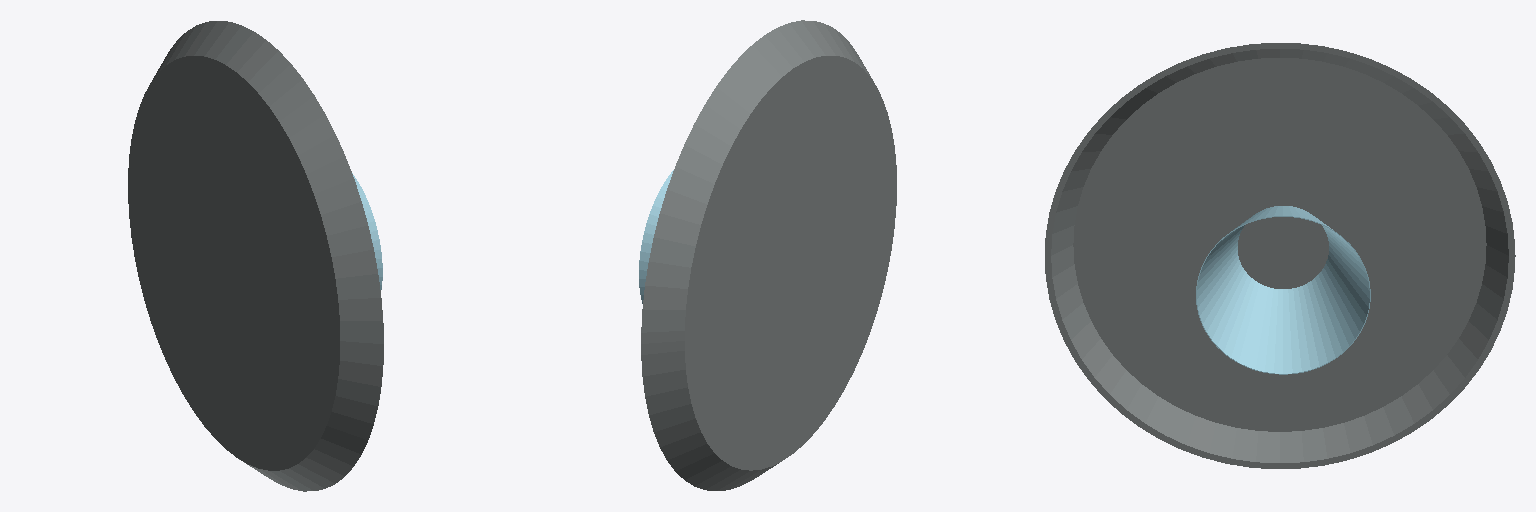
URDF robot description (gen3_robotiq_2f_85):
<?xml version="1.0" ?>
<!-- =================================================================================== -->
<!-- |    This document was autogenerated by xacro from gen3_robotiq_2f_85.xacro       | -->
<!-- |    EDITING THIS FILE BY HAND IS NOT RECOMMENDED                                 | -->
<!-- =================================================================================== -->
<robot name="gen3_robotiq_2f_85">
  <!-- Run the macros -->
  <link name="base">
    <inertial>
      <origin rpy="0 0 0" xyz="-0.000648 -0.000166 0.084487"/>
      <mass value="1.697"/>
      <inertia ixx="0.004622" ixy="9E-06" ixz="6E-05" iyy="0.004495" iyz="9E-06" izz="0.002079"/>
    </inertial>
    <visual>
      <origin rpy="0 0 0" xyz="0 0 0"/>
      <geometry>
        <mesh filename="meshes/base_link.obj"/>
      </geometry>
      <material name="">
        <color rgba="0.8275 0.8275 0.8275 0"/>
      </material>
    </visual>
    <collision>
      <origin rpy="0 0 0" xyz="0 0 0"/>
      <geometry>
        <mesh filename="meshes/base_link.obj"/>
      </geometry>
    </collision>
  </link>

  <link name="shoulder_link">
    <inertial>
      <origin rpy="0 0 0" xyz="-2.3E-05 -0.010364 -0.07336"/>
      <mass value="1.3773"/>
      <inertia ixx="0.00457" ixy="1E-06" ixz="2E-06" iyy="0.004831" iyz="0.000448" izz="0.001409"/>
    </inertial>
    <visual>
      <origin rpy="0 0 0" xyz="0 0 0"/>
      <geometry>
        <mesh filename="meshes/shoulder_link.obj"/>
      </geometry>
      <material name="">
        <color rgba="0.8275 0.8275 0.8275 0"/>
      </material>
    </visual>
    <collision>
      <origin rpy="0 0 0" xyz="0 0 0"/>
      <geometry>
        <mesh filename="meshes/shoulder_link.obj"/>
      </geometry>
    </collision>
  </link>

  <joint name="joint_1" type="continuous">
    <origin rpy="3.1416 2.7629E-18 -4.9305E-36" xyz="0 0 0.15643"/>
    <parent link="base"/>
    <child link="shoulder_link"/>
    <axis xyz="0 0 1"/>
    <limit effort="39" velocity="1.3963"/>
  </joint>

  <link name="half_arm_1_link">
    <inertial>
      <origin rpy="0 0 0" xyz="-4.4E-05 -0.09958 -0.013278"/>
      <mass value="1.1636"/>
      <inertia ixx="0.011088" ixy="5E-06" ixz="0" iyy="0.001072" iyz="-0.000691" izz="0.011255"/>
    </inertial>
    <visual>
      <origin rpy="0 0 0" xyz="0 0 0"/>
      <geometry>
        <mesh filename="meshes/half_arm_1_link.obj"/>
      </geometry>
      <material name="">
        <color rgba="0.8275 0.8275 0.8275 0"/>
      </material>
    </visual>
    <collision>
      <origin rpy="0 0 0" xyz="0 0 0"/>
      <geometry>
        <mesh filename="meshes/half_arm_1_link.obj"/>
      </geometry>
    </collision>
  </link>

  <joint name="joint_2" type="revolute">
    <origin rpy="1.5708 2.1343E-17 -1.1102E-16" xyz="0 0.005375 -0.12838"/>
    <parent link="shoulder_link"/>
    <child link="half_arm_1_link"/>
    <axis xyz="0 0 1"/>
    <limit effort="39" lower="-2.41" upper="2.41" velocity="1.3963"/>
  </joint>

  <link name="half_arm_2_link">
    <inertial>
      <origin rpy="0 0 0" xyz="-4.4E-05 -0.006641 -0.117892"/>
      <mass value="1.1636"/>
      <inertia ixx="0.010932" ixy="0" ixz="-7E-06" iyy="0.011127" iyz="0.000606" izz="0.001043"/>
    </inertial>
    <visual>
      <origin rpy="0 0 0" xyz="0 0 0"/>
      <geometry>
        <mesh filename="meshes/half_arm_2_link.obj"/>
      </geometry>
      <material name="">
        <color rgba="0.8275 0.8275 0.8275 0"/>
      </material>
    </visual>
    <collision>
      <origin rpy="0 0 0" xyz="0 0 0"/>
      <geometry>
        <mesh filename="meshes/half_arm_2_link.obj"/>
      </geometry>
    </collision>
  </link>

  <joint name="joint_3" type="continuous">
    <origin rpy="-1.5708 1.2326E-32 -2.9122E-16" xyz="0 -0.21038 -0.006375"/>
    <parent link="half_arm_1_link"/>
    <child link="half_arm_2_link"/>
    <axis xyz="0 0 1"/>
    <limit effort="39" velocity="1.3963"/>
  </joint>

  <link name="forearm_link">
    <inertial>
      <origin rpy="0 0 0" xyz="-1.8E-05 -0.075478 -0.015006"/>
      <mass value="0.9302"/>
      <inertia ixx="0.008147" ixy="-1E-06" ixz="0" iyy="0.000631" iyz="-0.0005" izz="0.008316"/>
    </inertial>
    <visual>
      <origin rpy="0 0 0" xyz="0 0 0"/>
      <geometry>
        <mesh filename="meshes/forearm_link.obj"/>
      </geometry>
      <material name="">
        <color rgba="0.8275 0.8275 0.8275 0"/>
      </material>
    </visual>
    <collision>
      <origin rpy="0 0 0" xyz="0 0 0"/>
      <geometry>
        <mesh filename="meshes/forearm_link.obj"/>
      </geometry>
    </collision>
  </link>

  <joint name="joint_4" type="revolute">
    <origin rpy="1.5708 -6.6954E-17 -1.6653E-16" xyz="0 0.006375 -0.21038"/>
    <parent link="half_arm_2_link"/>
    <child link="forearm_link"/>
    <axis xyz="0 0 1"/>
    <limit effort="39" lower="-2.66" upper="2.66" velocity="1.3963"/>
  </joint>

  <link name="spherical_wrist_1_link">
    <inertial>
      <origin rpy="0 0 0" xyz="1E-06 -0.009432 -0.063883"/>
      <mass value="0.6781"/>
      <inertia ixx="0.001596" ixy="0" ixz="0" iyy="0.001607" iyz="0.000256" izz="0.000399"/>
    </inertial>
    <visual>
      <origin rpy="0 0 0" xyz="0 0 0"/>
      <geometry>
        <mesh filename="meshes/spherical_wrist_1_link.obj"/>
      </geometry>
      <material name="">
        <color rgba="0.8275 0.8275 0.8275 0"/>
      </material>
    </visual>
    <collision>
      <origin rpy="0 0 0" xyz="0 0 0"/>
      <geometry>
        <mesh filename="meshes/spherical_wrist_1_link.obj"/>
      </geometry>
    </collision>
  </link>

  <joint name="joint_5" type="continuous">
    <origin rpy="-1.5708 2.2204E-16 -6.373E-17" xyz="0 -0.20843 -0.006375"/>
    <parent link="forearm_link"/>
    <child link="spherical_wrist_1_link"/>
    <axis xyz="0 0 1"/>
    <limit effort="9" velocity="1.2218"/>
  </joint>

  <link name="spherical_wrist_2_link">
    <inertial>
      <origin rpy="0 0 0" xyz="1E-06 -0.045483 -0.00965"/>
      <mass value="0.6781"/>
      <inertia ixx="0.001641" ixy="0" ixz="0" iyy="0.00041" iyz="-0.000278" izz="0.001641"/>
    </inertial>
    <visual>
      <origin rpy="0 0 0" xyz="0 0 0"/>
      <geometry>
        <mesh filename="meshes/spherical_wrist_2_link.obj"/>
      </geometry>
      <material name="">
        <color rgba="0.8275 0.8275 0.8275 0"/>
      </material>
    </visual>
    <collision>
      <origin rpy="0 0 0" xyz="0 0 0"/>
      <geometry>
        <mesh filename="meshes/spherical_wrist_2_link.obj"/>
      </geometry>
    </collision>
  </link>

  <joint name="joint_6" type="revolute">
    <origin rpy="1.5708 9.2076E-28 -8.2157E-15" xyz="0 0.00017505 -0.10593"/>
    <parent link="spherical_wrist_1_link"/>
    <child link="spherical_wrist_2_link"/>
    <axis xyz="0 0 1"/>
    <limit effort="9" lower="-2.23" upper="2.23" velocity="1.2218"/>
  </joint>

  <link name="bracelet_link">
    <inertial>
      <!-- This is different from the documentation -->
      <origin rpy="0 0 0" xyz="0.000281 0.011402 -0.029798"/>
      <mass value="0.5"/>
      <inertia ixx="0.000587" ixy="3E-06" ixz="3E-06" iyy="0.000369" iyz="-0.000118" izz="0.000609"/>
    </inertial>
    <visual>
      <origin rpy="0 0 0" xyz="0 0 0"/>
      <geometry>
        <mesh filename="meshes/bracelet_with_vision_link.obj"/>
      </geometry>
      <material name="">
        <color rgba="0.8275 0.8275 0.8275 0"/>
      </material>
    </visual>
    <collision>
      <origin rpy="0 0 0" xyz="0 0 0"/>
      <geometry>
        <mesh filename="meshes/bracelet_with_vision_link.obj"/>
      </geometry>
    </collision>
  </link>

  <joint name="joint_7" type="continuous">
    <origin rpy="-1.5708 -5.5511E-17 9.6396E-17" xyz="0 -0.10593 -0.00017505"/>
    <parent link="spherical_wrist_2_link"/>
    <child link="bracelet_link"/>
    <axis xyz="0 0 1"/>
    <limit effort="9" velocity="1.2218"/>
  </joint>

  <!-- gripper code -->


  <joint name="gripper_base_joint" type="fixed">
    <!--
    <parent link="end_effector_link"/>
  -->
    <parent link="bracelet_link"/>
    <child link="gripper_base"/>
    <origin rpy="1.5707 0.0 0.0" xyz="0.0 0.0 -0.0615250000000001"/>
    <!-- 1.57 -->
  </joint>

  <link name="gripper_base">
    <inertial>
      <origin rpy="0 0 0" xyz="6.91E-06 4.4117E-06 0.031656"/>
      <mass value="0.60831"/>
      <inertia ixx="0.0004596" ixy="1.5559E-09" ixz="1.397E-07" iyy="0.0005181" iyz="-1.0325E-11" izz="0.00036051"/>
    </inertial>
    <visual>
      <origin rpy="0 0 0" xyz="0 0 0"/>
      <geometry>
        <mesh filename="meshes/base_of_gripper.obj"/>
      </geometry>
      <material name="">
        <color rgba="0.1765 0.1765 0.1765 0"/>
      </material>
    </visual>
    <collision>
      <origin rpy="0 0 0" xyz="0 0 0"/>
      <geometry>
        <mesh filename="meshes/base_of_gripper.obj"/>
      </geometry>
    </collision>
  </link>

<!-- gripper code -->

<link name="gripper_right_spring_link">
    <inertial>
      <origin rpy="0 0 0" xyz="-9.7222E-12 0.028253 6.791E-10"/>
      <mass value="0.029951"/>
      <inertia ixx="1.5103E-05" ixy="-1.0709E-16" ixz="-2.654E-15" iyy="5.0789E-06" iyz="3.2666E-14" izz="1.0707E-05"/>
    </inertial>
    <visual>
      <origin rpy="0 0 0" xyz="0 0 0"/>
      <geometry>
        <mesh filename="urdfs\kinova\meshes\right_spring_link.STL"/>
      </geometry>
      <material name="">
        <color rgba="0.1765 0.1765 0.1765 0"/>
      </material>
    </visual>
    <collision>
      <origin rpy="0 0 0" xyz="0 0 0"/>
      <geometry>
        <mesh filename="urdfs\kinova\meshes\right_spring_link.STL"/>
      </geometry>
    </collision>
  </link>

  <joint name="gripper_right_spring_link_joint" type="fixed">
    <origin rpy="3.1416 0 0.392699" xyz="0.0127 -0.061307 0"/>
    <parent link="gripper_base"/>
    <child link="gripper_right_spring_link"/>
    <axis xyz="0 0 1"/>
    <limit effort="0" lower="0" upper="0.7854" velocity="0"/>
  </joint>

  <link name="gripper_left_spring_link">
    <inertial>
      <origin rpy="0 0 0" xyz="-8.05421701555176E-13 0.0282525952540491 7.27854432947014E-10"/>
      <mass value="0.0299513316731757"/>
      <inertia ixx="1.51025275365861E-05" ixy="1.3893966137107E-16" ixz="-5.21047318848845E-15" iyy="5.07891354120236E-06" iyz="3.47379370230503E-14" izz="1.0706817344978E-05"/>
    </inertial>
    <visual>
      <origin rpy="0 0 0" xyz="0 0 0"/>
      <geometry>
        <mesh filename="urdfs\kinova\meshes\left_spring_link.STL"/>
      </geometry>
      <material name="">
        <color rgba="0.1765 0.1765 0.1765 0"/>
      </material>
    </visual>
    <collision>
      <origin rpy="0 0 0" xyz="0 0 0"/>
      <geometry>
        <mesh filename="urdfs\kinova\meshes\left_spring_link.STL"/>
      </geometry>
    </collision>
  </link>

  <joint name="gripper_left_spring_link_joint" type="fixed">
    <origin rpy="3.1416 0 -0.392699" xyz="-0.0127 -0.061307 0"/>
    <parent link="gripper_base"/>
    <child link="gripper_left_spring_link"/>
    <axis xyz="0 0 1"/>
    <limit effort="0" lower="-0.7854" upper="0" velocity="0"/>
  </joint>

  <link name="gripper_right_driver">
    <inertial>
      <origin rpy="0 0 0" xyz="0.0179377478479594 0.000926031753317007 -4.0741034207454E-11"/>
      <mass value="0.0184906489409923"/>
      <inertia ixx="6.79440339903172E-07" ixy="-2.0728790158877E-07" ixz="5.46290681974064E-15" iyy="3.45929623837714E-06" iyz="7.55029433009734E-15" izz="3.75009298146153E-06"/>
    </inertial>
    <visual>
      <origin rpy="0 0 0" xyz="0 0 0"/>
      <geometry>
        <mesh filename="urdfs\kinova\meshes\right_driver.STL"/>
      </geometry>
      <material name="">
        <color rgba="0.1765 0.1765 0.1765 0"/>
      </material>
    </visual>
    <collision>
      <origin rpy="0 0 0" xyz="0 0 0"/>
      <geometry>
        <mesh filename="urdfs\kinova\meshes\right_driver.STL"/>
      </geometry>
    </collision>
  </link>

  <joint name="gripper_right_driver_joint" type="fixed">
    <origin rpy="3.1416 0 -1.5707" xyz="0.030601 -0.054792 0"/>
    <parent link="gripper_base"/>
    <child link="gripper_right_driver"/>
    <axis xyz="0 0 1"/>
    <limit effort="150" lower="-3.1416" upper="3.1416" velocity="0"/>
  </joint>

  <link name="gripper_right_coupler">
    <inertial>
      <origin rpy="0 0 0" xyz="-0.00277693278884095 0.0214010778170948 -2.64117771736162E-15"/>
      <mass value="0.0273093985570947"/>
      <inertia ixx="8.4351877262463E-06" ixy="8.05599897942411E-07" ixz="3.98563616297657E-19" iyy="2.33117687880373E-06" iyz="-6.91949626399278E-19" izz="6.9133328065108E-06"/>
    </inertial>
    <visual>
      <origin rpy="0 0 0" xyz="0 0 0"/>
      <geometry>
        <mesh filename="urdfs\kinova\meshes\right_coupler.STL"/>
      </geometry>
      <material name="">
        <color rgba="0.1765 0.1765 0.1765 0"/>
      </material>
    </visual>
    <collision>
      <origin rpy="0 0 0" xyz="0 0 0"/>
      <geometry>
        <mesh filename="urdfs\kinova\meshes\right_coupler.STL"/>
      </geometry>
    </collision>
  </link>

  <joint name="gripper_right_coupler_joint" type="fixed">
    <origin rpy="0 0 -1.5707" xyz="0.031486 -0.0040855 0"/>
    <parent link="gripper_right_driver"/>
    <child link="gripper_right_coupler"/>
    <axis xyz="0 0 -1"/>
    <limit effort="0" lower="0.13" upper="0.79" velocity="0"/>
  </joint>

  <link name="gripper_right_follower">
    <inertial>
      <origin rpy="0 0 0" xyz="0.0118738800643238 0.013213950103123 -6.42371679073841E-16"/>
      <mass value="0.0195548943464751"/>
      <inertia ixx="3.99125345460037E-06" ixy="-9.32228708142781E-07" ixz="-1.06756339811242E-18" iyy="1.28831055431048E-06" iyz="-9.53069862405573E-19" izz="4.59174098263665E-06"/>
    </inertial>
    <visual>
      <origin rpy="0 0 0" xyz="0 0 0"/>
      <geometry>
        <mesh filename="urdfs\kinova\meshes\right_follower.STL"/>
      </geometry>
      <material name="">
        <color rgba="0.529411764705882 0.549019607843137 0.549019607843137 1"/>
      </material>
    </visual>
    <collision>
      <origin rpy="0 0 0" xyz="0 0 0"/>
      <geometry>
        <mesh filename="urdfs\kinova\meshes\right_follower.STL"/>
      </geometry>
    </collision>
  </link>

  <joint name="gripper_right_follower_joint" type="fixed">
    <origin rpy="3.1416 0 3.1416" xyz="-0.0061148 0.047125 0"/>
    <parent link="gripper_right_coupler"/>
    <child link="gripper_right_follower"/>
    <axis xyz="0 0 1"/>
    <limit effort="0" lower="-3.1416" upper="3.1416" velocity="0"/>
  </joint>

  <link name="gripper_right_pad">
    <inertial>
      <origin rpy="0 0 0" xyz="0.000197179990555962 0.003 -5.73415880070697E-15"/>
      <mass value="0.0112846745192962"/>
      <inertia ixx="4.84198905594698E-07" ixy="1.17467826101044E-22" ixz="-2.69493952498347E-22" iyy="1.75287448520128E-06" iyz="3.01393554780919E-23" izz="1.33638362672235E-06"/>
    </inertial>
    <visual>
      <origin rpy="0 0 0" xyz="0 0 0"/>
      <geometry>
        <mesh filename="urdfs\kinova\meshes\right_pad.STL"/>
      </geometry>
      <material name="">
        <color rgba="0.529411764705882 0.549019607843137 0.549019607843137 1"/>
      </material>
    </visual>
    <collision>
      <origin rpy="0 0 0" xyz="0 0 0"/>
      <geometry>
        <mesh filename="urdfs\kinova\meshes\right_pad.STL"/>
      </geometry>
    </collision>
  </link>

  <joint name="gripper_right_pad_joint" type="fixed">
    <origin rpy="3.1416 0 -1.5708" xyz="0.024903 0.032264 0"/>
    <parent link="gripper_right_follower"/>
    <child link="gripper_right_pad"/>
    <axis xyz="0 0 0"/>
  </joint>

  <link name="gripper_left_driver">
    <inertial>
      <origin rpy="0 0 0" xyz="0.0179377478480944 0.000926031754016808 -4.09476305946672E-11"/>
      <mass value="0.0184906489414316"/>
      <inertia ixx="6.79440340033055E-07" ixy="-2.07287901659297E-07" ixz="5.48822371152932E-15" iyy="3.45929623843939E-06" iyz="7.56200742857023E-15" izz="3.75009298156646E-06"/>
    </inertial>
    <visual>
      <origin rpy="0 0 0" xyz="0 0 0"/>
      <geometry>
        <mesh filename="urdfs\kinova\meshes\left_driver.STL"/>
      </geometry>
      <material name="">
        <color rgba="0.1765 0.1765 0.1765 0"/>
      </material>
    </visual>
    <collision>
      <origin rpy="0 0 0" xyz="0 0 0"/>
      <geometry>
        <mesh filename="urdfs\kinova\meshes\left_driver.STL"/>
      </geometry>
    </collision>
  </link>

  <joint name="gripper_left_driver_joint" type="fixed">
    <origin rpy="0 0 -1.5707" xyz="-0.030601 -0.054792 0"/>
    <parent link="gripper_base"/>
    <child link="gripper_left_driver"/>
    <axis xyz="0 0 1"/>
    <limit effort="150" lower="-3.1416" upper="3.1416" velocity="0"/>
  </joint>

  <link name="gripper_left_coupler">
    <inertial>
      <origin rpy="0 0 0" xyz="-0.00277693278884093 0.0214010778170948 -2.65696393157366E-15"/>
      <mass value="0.0273093985570947"/>
      <inertia ixx="8.43518772624629E-06" ixy="8.05599897942414E-07" ixz="3.98028057558574E-19" iyy="2.33117687880373E-06" iyz="-6.91715450328278E-19" izz="6.9133328065108E-06"/>
    </inertial>
    <visual>
      <origin rpy="0 0 0" xyz="0 0 0"/>
      <geometry>
        <mesh filename="urdfs\kinova\meshes\left_coupler.STL"/>
      </geometry>
      <material name="">
        <color rgba="0.1765 0.1765 0.1765 0"/>
      </material>
    </visual>
    <collision>
      <origin rpy="0 0 0" xyz="0 0 0"/>
      <geometry>
        <mesh filename="urdfs\kinova\meshes\left_coupler.STL"/>
      </geometry>
    </collision>
  </link>

  <joint name="gripper_left_coupler_joint" type="fixed">
    <origin rpy="3.1416 0 1.5707" xyz="0.031486 -0.0040855 0"/>
    <parent link="gripper_left_driver"/>
    <child link="gripper_left_coupler"/>
    <axis xyz="0 0 1"/>
    <limit effort="0" lower="0.13" upper="0.79" velocity="0"/>
  </joint>

  <link name="gripper_left_follower">
    <inertial>
      <origin rpy="0 0 0" xyz="0.0118738800643238 0.013213950103123 2.13813023929037E-15"/>
      <mass value="0.0195548943464751"/>
      <inertia ixx="3.99125345460038E-06" ixy="-9.32228708142783E-07" ixz="-1.06843707618223E-18" iyy="1.28831055431048E-06" iyz="-9.54631781105362E-19" izz="4.59174098263666E-06"/>
    </inertial>
    <visual>
      <origin rpy="0 0 0" xyz="0 0 0"/>
      <geometry>
        <mesh filename="urdfs\kinova\meshes\left_follower.STL"/>
      </geometry>
      <material name="">
        <color rgba="0.529411764705882 0.549019607843137 0.549019607843137 1"/>
      </material>
    </visual>
    <collision>
      <origin rpy="0 0 0" xyz="0 0 0"/>
      <geometry>
        <mesh filename="urdfs\kinova\meshes\left_follower.STL"/>
      </geometry>
    </collision>
  </link>

  <joint name="gripper_left_follower_joint" type="fixed">
    <origin rpy="0 0 0" xyz="-0.0061148 0.047125 0"/>
    <parent link="gripper_left_coupler"/>
    <child link="gripper_left_follower"/>
    <axis xyz="0 0 1"/>
    <limit effort="0" lower="-3.1416" upper="3.1416" velocity="0"/>
  </joint>

  <link name="gripper_left_pad">
    <inertial>
      <origin rpy="0 0 0" xyz="0.00019717999055599 0.003 8.49842392779646E-15"/>
      <mass value="0.0112846745192961"/>
      <inertia ixx="4.84198905594697E-07" ixy="7.66025016740815E-22" ixz="4.8234593310579E-23" iyy="1.75287448520127E-06" iyz="-9.35905899337494E-24" izz="1.33638362672235E-06"/>
    </inertial>
    <visual>
      <origin rpy="0 0 0" xyz="0 0 0"/>
      <geometry>
        <mesh filename="urdfs\kinova\meshes\left_pad.STL"/>
      </geometry>
      <material name="">
        <color rgba="0.529411764705882 0.549019607843137 0.549019607843137 1"/>
      </material>
    </visual>
    <collision>
      <origin rpy="0 0 0" xyz="0 0 0"/>
      <geometry>
        <mesh filename="urdfs\kinova\meshes\left_pad.STL"/>
      </geometry>
    </collision>
  </link>

  <joint name="gripper_left_pad_joint" type="fixed">
    <origin rpy="0 0 -1.5708" xyz="0.018903 0.032265 0"/>
    <parent link="gripper_left_follower"/>
    <child link="gripper_left_pad"/>
    <axis xyz="0 0 0"/>
  </joint>

  <!-- tray and object code -->

  <joint name="waiter_tray_joint" type="fixed">
     <origin rpy="0 1.5707 0" xyz="0 -0.14948 0" /> <!-- offset from base of gripper -->
     <parent link="gripper_base" />
     <child link="waiter_tray_link" />
  </joint>

  <link name="waiter_tray_link"> <!-- updated for circular tray -->
    <inertial>
      <origin rpy="0 0 0" xyz="0 -0.144 0" /> <!-- updated for hardware -->
      <mass value="0.354" /> <!-- updated for hardware -->
      <inertia ixx="0.00001806328" ixy="0" ixz="0" iyy="0.00001806328" iyz="0" izz="0.00003596782" /> <!-- updated for hardware -->
    </inertial>
    <visual>
      <origin rpy="0 0 0" xyz="0 0 0"/>
      <geometry>
        <mesh filename="meshes/circ_tray_hardware_shift_scale_v4.obj" /> <!-- need to be updated -->
      </geometry>
      <material name="">
      <color rgba="0.529411764705882 0.549019607843137 0.549019607843137 1" />
      </material>
    </visual>
    <collision>
      <origin rpy="0 0 0" xyz="0 0 0"/>
      <geometry>
        <mesh filename="meshes/circ_tray_hardware_shift_scale_v4.obj" /> <!-- need to be updated -->
      </geometry>
    </collision>
  </link>

  <!-- Joint 10 -->
  <joint name="contact_joint" type="fixed">
     <origin rpy="0 0 0" xyz="0 -0.106 0.002" /> <!-- needs to be updated --> 
     <parent link="waiter_tray_link" />
     <child link="object_link" />
  </joint>

  <link name="object_link">
    <inertial>
      <origin rpy="0 0 0" xyz="0 0 0.0291" /> <!-- updated for hardware -->
      <mass value="0.592" /> <!-- updated for hardware -->
      <inertia ixx="0.00033005074" ixy="0.0" ixz="0.0" iyy="0.00033005074" iyz="0.0" izz="0.00042925501" /> <!-- updated for hardware -->
    </inertial>
    <visual>
      <origin rpy="0 0 0" xyz="0 0 0" />
      <geometry>
        <mesh filename="meshes/cup_hardware_shifted_scaled_rotated.obj" /> <!-- updated for hardware -->
          <!-- scale="0.001 0.001 0.001" -->
      </geometry>
      <material name="">
        <color rgba="0.6784 0.8471 0.9020 0" />
      </material>
    </visual>
    <collision>
      <origin rpy="0 0 0" xyz="0 0 0" />
      <geometry>
        <mesh filename="meshes/cup_hardware_shifted_scaled_rotated.obj" /> <!-- updated for hardware -->
      </geometry>
    </collision>
  </link>


</robot>

--- Render facts (derived) ---
The picture shows the robot from 3 angles, left to right: view 1: azimuth 30°, elevation 25°; view 2: azimuth 150°, elevation 25°; view 3: azimuth 270°, elevation 25°; orthographic projection.
Robot: gen3_robotiq_2f_85 — 21 links, 20 joints (3 revolute, 4 continuous, 13 fixed); root link base; default pose: every joint at zero.
Visible links, largest first — view 1: waiter_tray_link, object_link; view 2: waiter_tray_link, object_link; view 3: waiter_tray_link, object_link.
Boxes of the visible links, <box> form: waiter_tray_link: <box>128,21,383,491</box>; object_link: <box>352,173,382,289</box>; waiter_tray_link: <box>641,20,896,490</box>; object_link: <box>639,170,673,303</box>; waiter_tray_link: <box>1045,43,1515,468</box>; object_link: <box>1196,206,1370,374</box>.
Size in the robot's own frame: 0.072 by 0.285 by 0.2849 metres.
Meshes: 21 distinct files referenced, 2 mesh visuals loaded (2 OBJ); not drawn: 19 (reference not matched to a file when rendering).